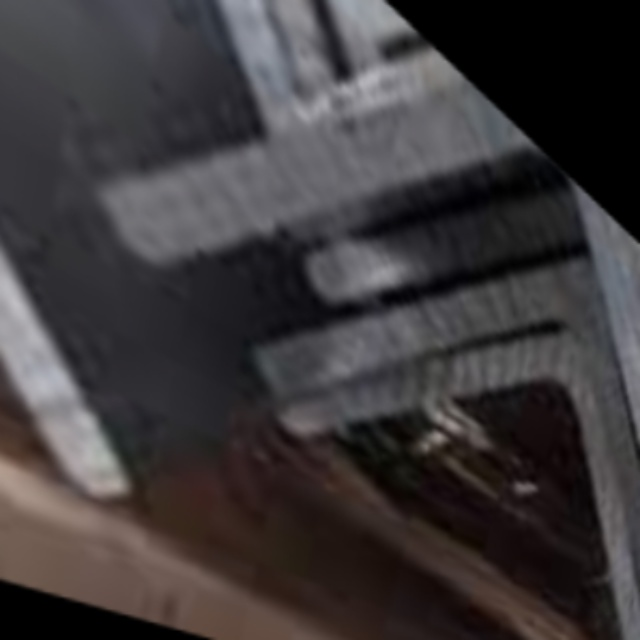Angle: (44, 0, 640, 581), (222, 36, 640, 622), (247, 155, 640, 640), (0, 0, 239, 499), (364, 0, 640, 418), (389, 9, 640, 365), (0, 0, 328, 127), (0, 0, 375, 50)
